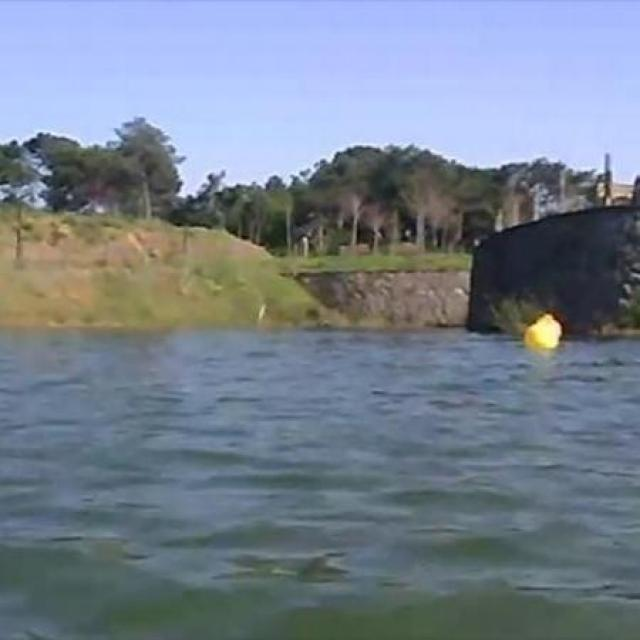buoy: (522, 318, 562, 350)
